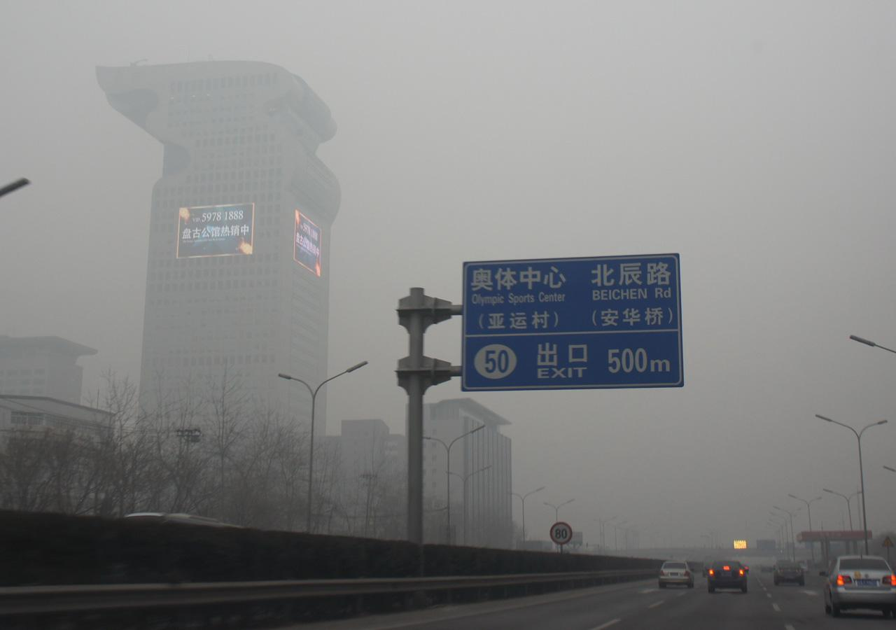car: (816, 554, 896, 616), (704, 557, 749, 593), (655, 559, 697, 591), (772, 558, 805, 587), (701, 560, 722, 578)
